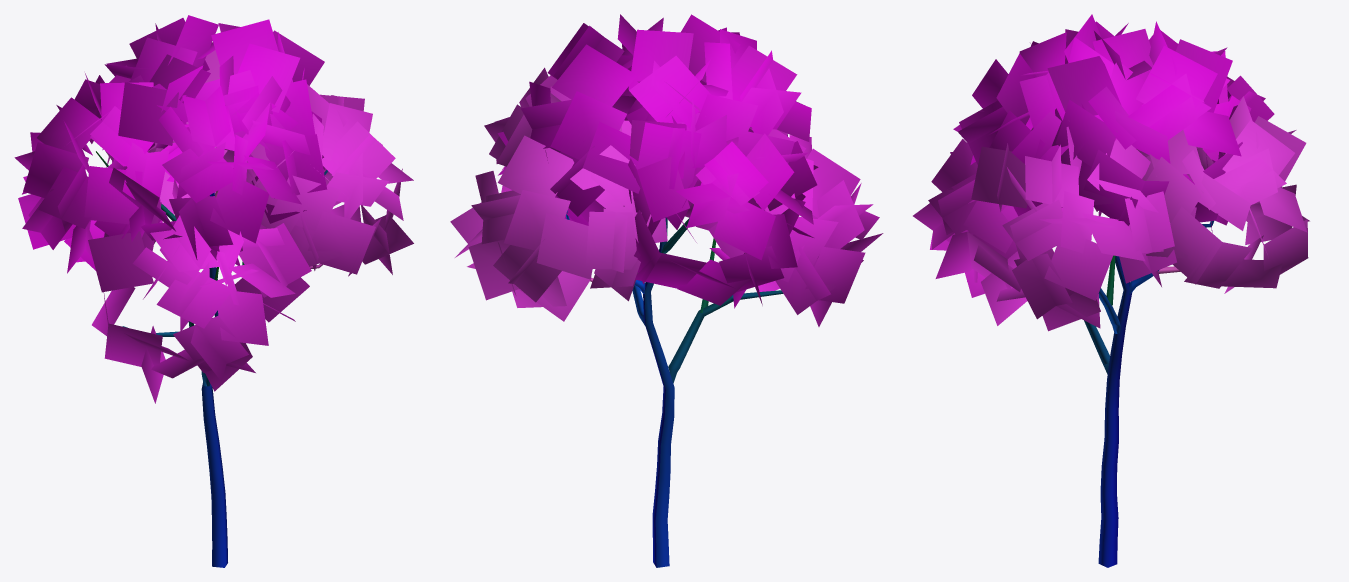
File: treeTwoLod1.glb
3 views of the same model, side by side, from view 1: azimuth 30°, elevation 25°; view 2: azimuth 150°, elevation 25°; view 3: azimuth 270°, elevation 25° (orthographic). The views are drawn at different scales.
Visible parts, largest first — view 1: Mesh_0.019; view 2: Mesh_0.019; view 3: Mesh_0.019.
Boxes of the visible parts, x1,y1,x2,y2 form: Mesh_0.019: (14,15,413,567); Mesh_0.019: (450,14,883,567); Mesh_0.019: (913,14,1309,567).
Size of the model in its own units: 22.74 by 33.27 by 23.6.
